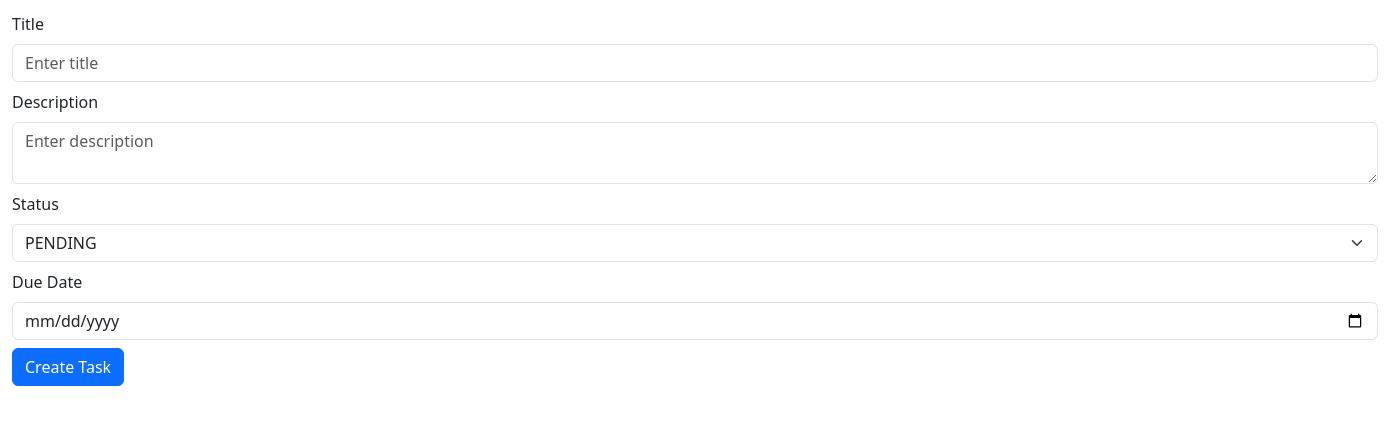
Test case: <NewTaskForm /> › shows an error message when title is missing
Type "2025-12-31" into the date field labelled "Due Date". click: [695, 321]
box: x1=12 y1=302 x2=1378 y2=340
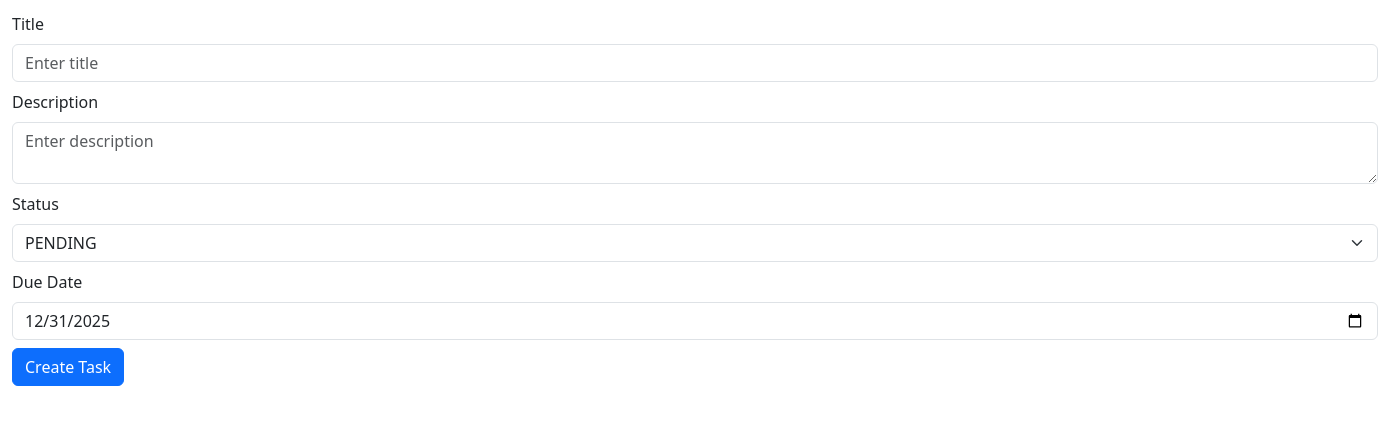
Click the button "Create Task". click: [68, 367]
box: x1=12 y1=348 x2=124 y2=386
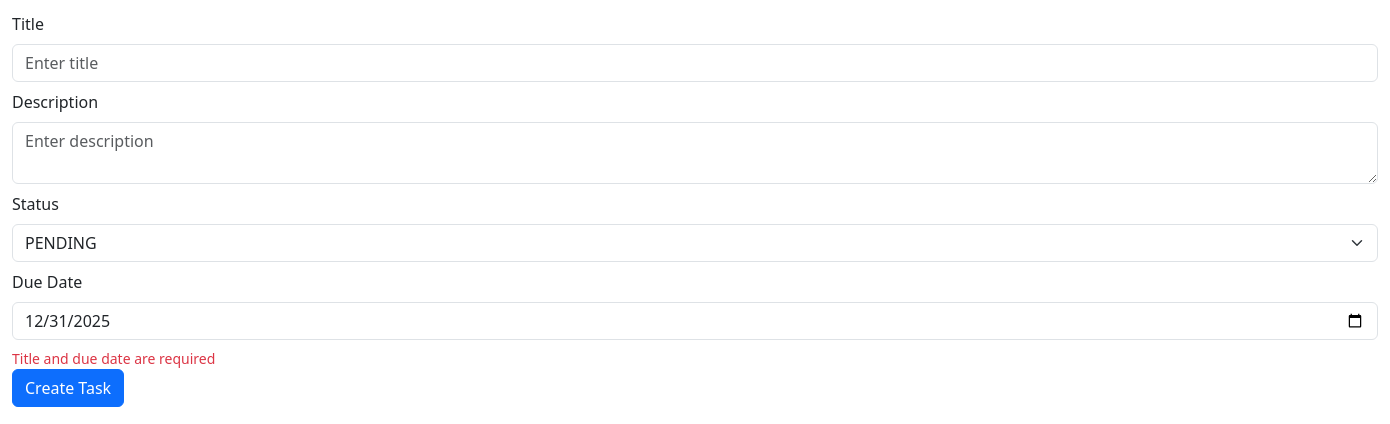
Expected: the text "Title and due date are required" is shown, x1=12 y1=349 x2=215 y2=368
